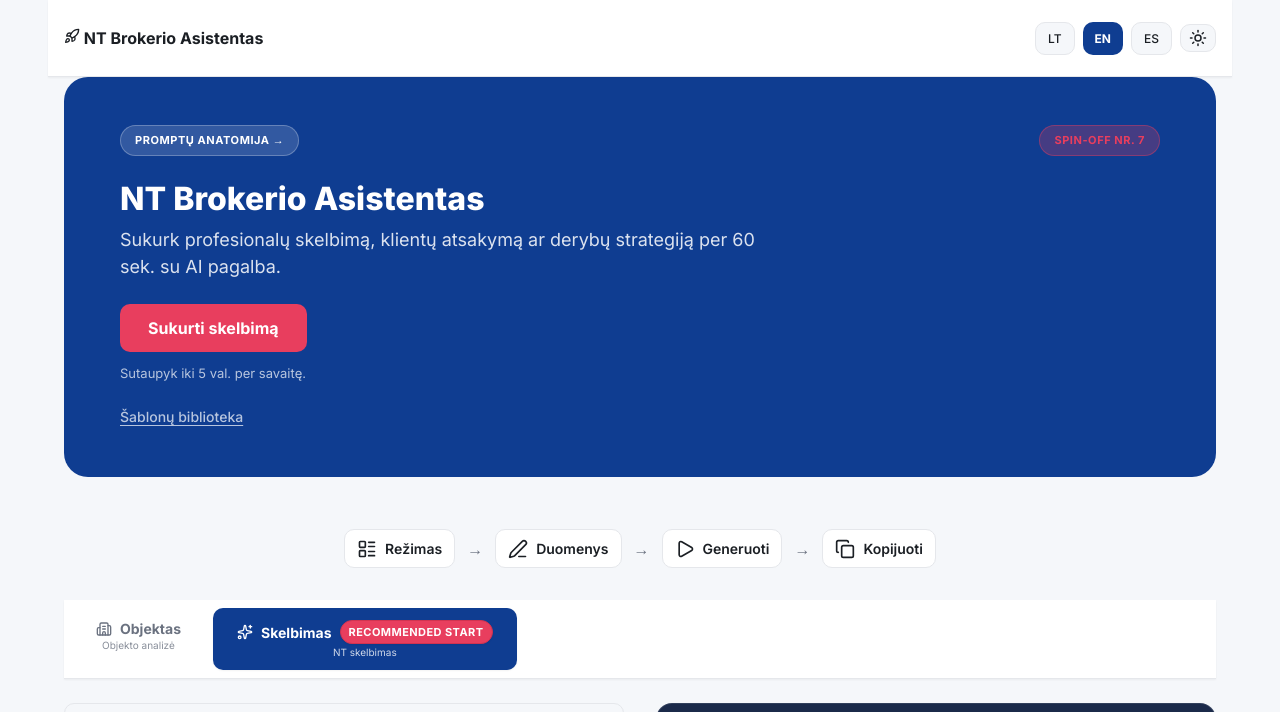
Test case: App › output is editable (textarea) after generation
Expected: the heading "NT Brokerio Asistentas" is shown, [120, 178, 484, 218]
Click the button with test id "cta-generate" at (213, 328), box [120, 304, 307, 352]
(page scrolled)
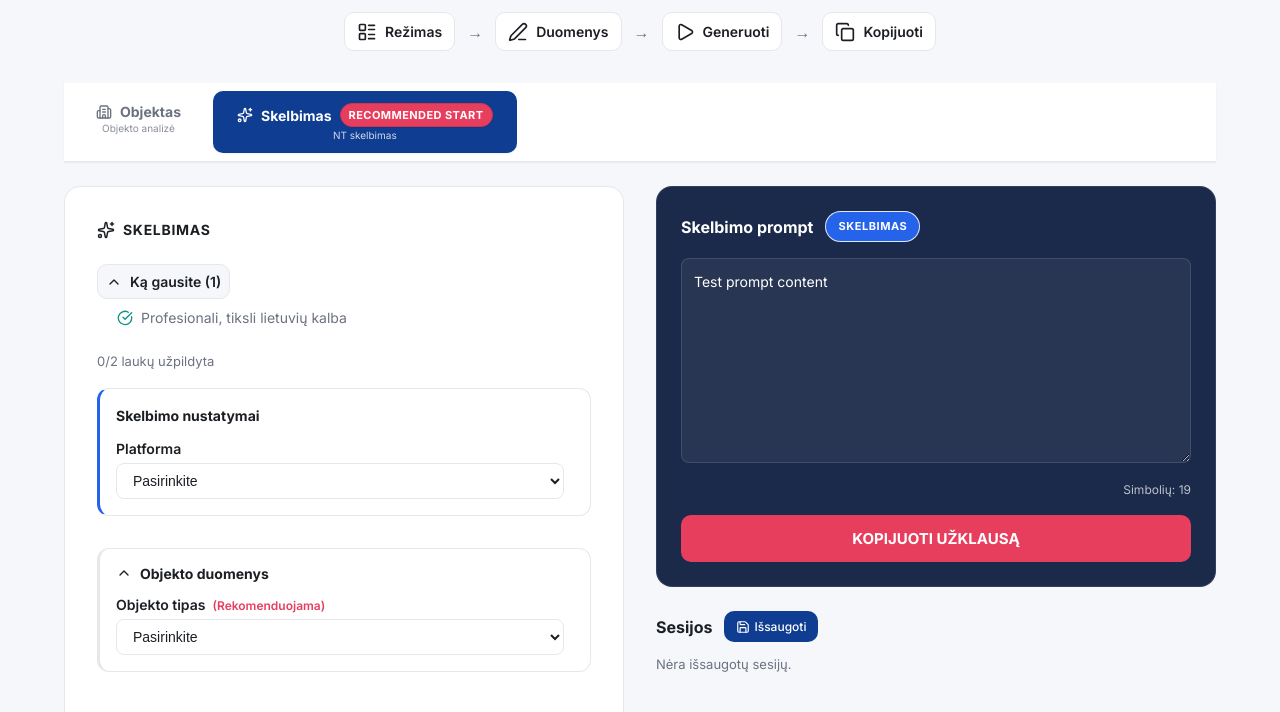
Expected: the text box with class "editable-output" is shown, [681, 258, 1191, 463]
